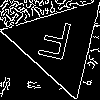F: (34, 18, 75, 70)
